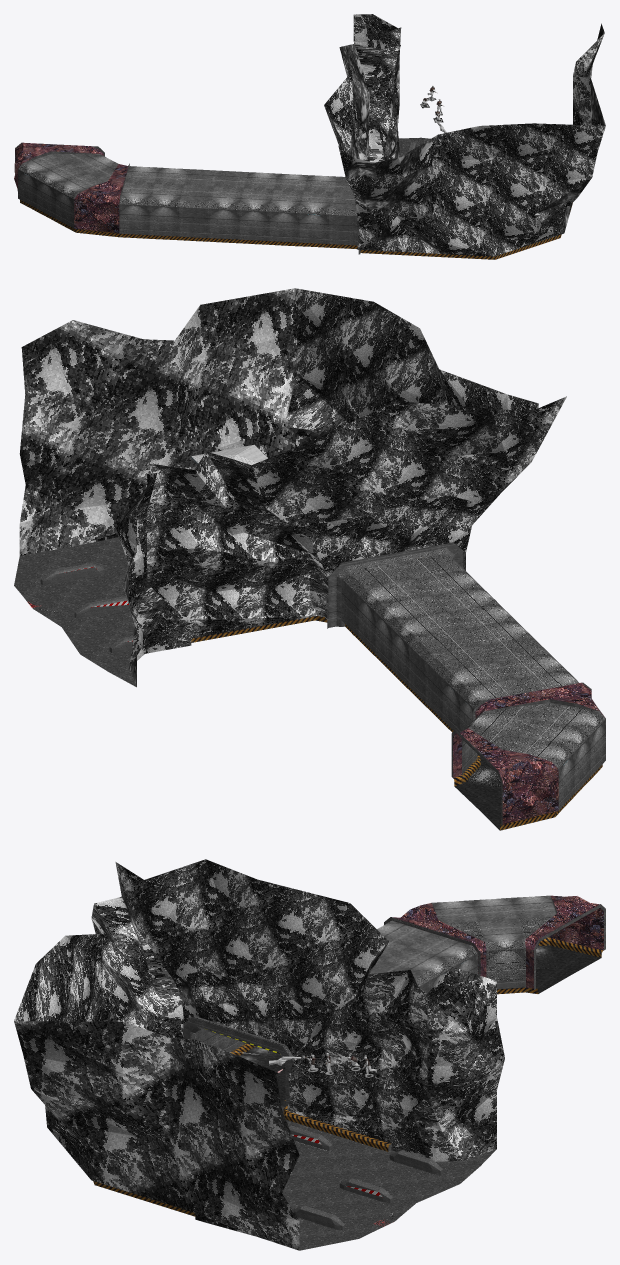
Rendered from dam3.obj.
3 renders of one model, top to bottom at view 1: azimuth 30°, elevation 25°; view 2: azimuth 150°, elevation 25°; view 3: azimuth 270°, elevation 25°, orthographic. The views are drawn at different scales.
Parts seen in each view (by area): view 1: 011_250FD62A_c.bmp, 279_5CCB531F_c.bmp, 266_5CCB531F_c.bmp, 285_5CCB531F_c.bmp, 293_22E03665_c.bmp, 273_25813CA2_c.bmp, 258_5CCB531F_c.bmp, 259_25813CA2_c.bmp, 272_5CCB531F_c.bmp, 286_25813CA2_c.bmp, 000_5C1FB8A7_c.bmp, 287_5C1FB8A7_c.bmp (+2 smaller); view 2: 011_250FD62A_c.bmp, 004_58933A3F_c.bmp, 285_5CCB531F_c.bmp, 293_22E03665_c.bmp, 266_5CCB531F_c.bmp, 259_25813CA2_c.bmp, 279_5CCB531F_c.bmp, 273_25813CA2_c.bmp, 258_5CCB531F_c.bmp, 286_25813CA2_c.bmp, 009_255D277A_c.bmp, 289_1072F0CB_c.bmp (+3 smaller); view 3: 011_250FD62A_c.bmp, 004_58933A3F_c.bmp, 285_5CCB531F_c.bmp, 293_22E03665_c.bmp, 279_5CCB531F_c.bmp, 009_255D277A_c.bmp, 259_25813CA2_c.bmp, 286_25813CA2_c.bmp, 000_5C1FB8A7_c.bmp, 289_1072F0CB_c.bmp, 287_5C1FB8A7_c.bmp, 273_25813CA2_c.bmp.
Boxes of the visible parts, left/top/right/bottom form: 011_250FD62A_c.bmp: left=324, top=14, right=605, bottom=256; 279_5CCB531F_c.bmp: left=119, top=166, right=188, bottom=230; 266_5CCB531F_c.bmp: left=239, top=172, right=308, bottom=236; 285_5CCB531F_c.bmp: left=18, top=154, right=118, bottom=222; 293_22E03665_c.bmp: left=14, top=142, right=128, bottom=233; 273_25813CA2_c.bmp: left=179, top=169, right=248, bottom=239; 258_5CCB531F_c.bmp: left=299, top=175, right=338, bottom=238; 259_25813CA2_c.bmp: left=299, top=176, right=360, bottom=254; 272_5CCB531F_c.bmp: left=209, top=186, right=243, bottom=233; 286_25813CA2_c.bmp: left=15, top=142, right=129, bottom=233; 000_5C1FB8A7_c.bmp: left=360, top=204, right=572, bottom=259; 287_5C1FB8A7_c.bmp: left=20, top=200, right=119, bottom=237; 011_250FD62A_c.bmp: left=19, top=288, right=566, bottom=686; 004_58933A3F_c.bmp: left=14, top=537, right=405, bottom=687; 285_5CCB531F_c.bmp: left=462, top=703, right=605, bottom=802; 293_22E03665_c.bmp: left=453, top=683, right=604, bottom=824; 266_5CCB531F_c.bmp: left=375, top=586, right=519, bottom=678; 259_25813CA2_c.bmp: left=327, top=542, right=468, bottom=653; 279_5CCB531F_c.bmp: left=442, top=653, right=578, bottom=731; 273_25813CA2_c.bmp: left=409, top=629, right=553, bottom=719; 258_5CCB531F_c.bmp: left=358, top=570, right=486, bottom=645; 286_25813CA2_c.bmp: left=451, top=682, right=605, bottom=826; 009_255D277A_c.bmp: left=40, top=563, right=133, bottom=653; 289_1072F0CB_c.bmp: left=454, top=759, right=501, bottom=830; 011_250FD62A_c.bmp: left=14, top=859, right=504, bottom=1250; 004_58933A3F_c.bmp: left=202, top=1106, right=496, bottom=1250; 285_5CCB531F_c.bmp: left=431, top=895, right=556, bottom=981; 293_22E03665_c.bmp: left=393, top=895, right=603, bottom=988; 279_5CCB531F_c.bmp: left=377, top=920, right=477, bottom=990; 009_255D277A_c.bmp: left=288, top=1125, right=443, bottom=1230; 259_25813CA2_c.bmp: left=183, top=1016, right=294, bottom=1106; 286_25813CA2_c.bmp: left=384, top=904, right=605, bottom=989; 000_5C1FB8A7_c.bmp: left=93, top=1106, right=390, bottom=1216; 289_1072F0CB_c.bmp: left=536, top=945, right=600, bottom=993; 287_5C1FB8A7_c.bmp: left=497, top=937, right=603, bottom=994; 273_25813CA2_c.bmp: left=370, top=958, right=429, bottom=993.
Size of the model in its own units: 1.18 by 0.3715 by 0.9493.
